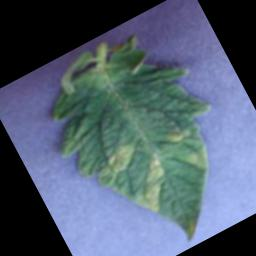Leaf_Mold: (115, 149, 182, 222), (87, 138, 146, 190), (181, 142, 216, 177), (159, 119, 193, 150)
